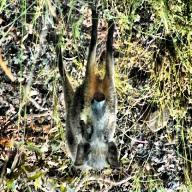boar: (51, 29, 129, 173)
